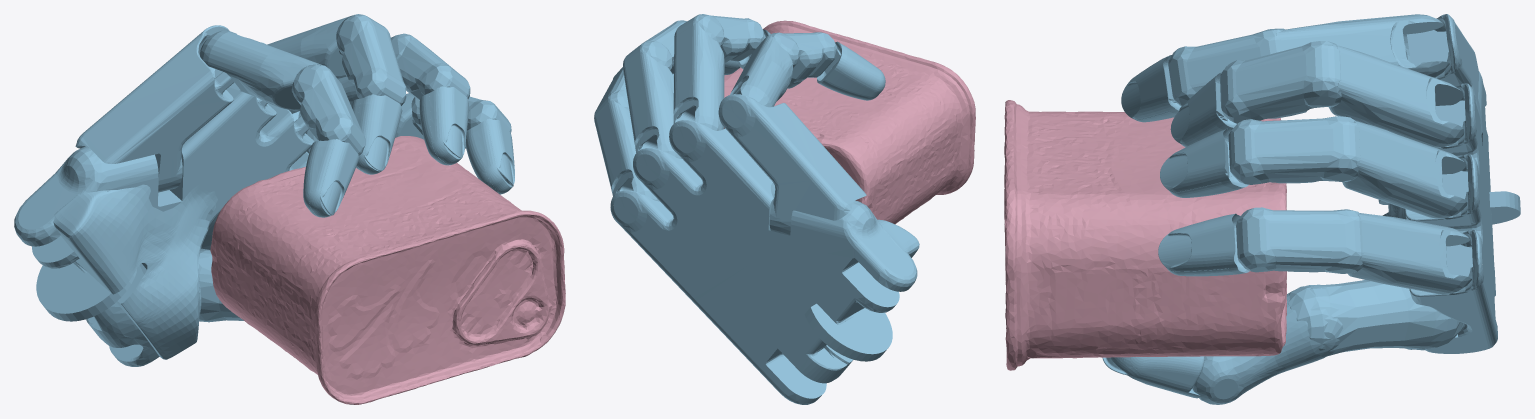
3 views of the same model, side by side, from view 1: azimuth 30°, elevation 25°; view 2: azimuth 150°, elevation 25°; view 3: azimuth 270°, elevation 25° (orthographic). The views are drawn at different scales.
Visible parts, largest first — view 1: world; view 2: world; view 3: world.
Part boxes in pixels (<box>): world: <box>14,14,565,404</box>; world: <box>594,14,975,404</box>; world: <box>1004,14,1520,404</box>.
Bounding box in the file's own units: 0.1684 × 0.1351 × 0.1525.
